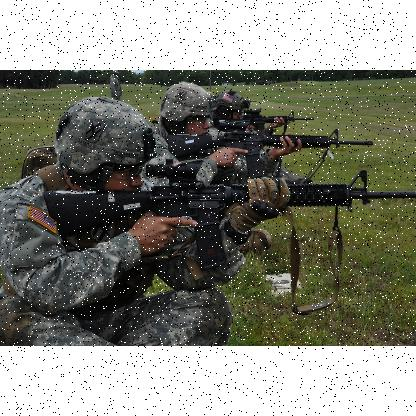gun: (42, 158, 414, 266), (163, 124, 375, 178), (215, 104, 315, 128)
